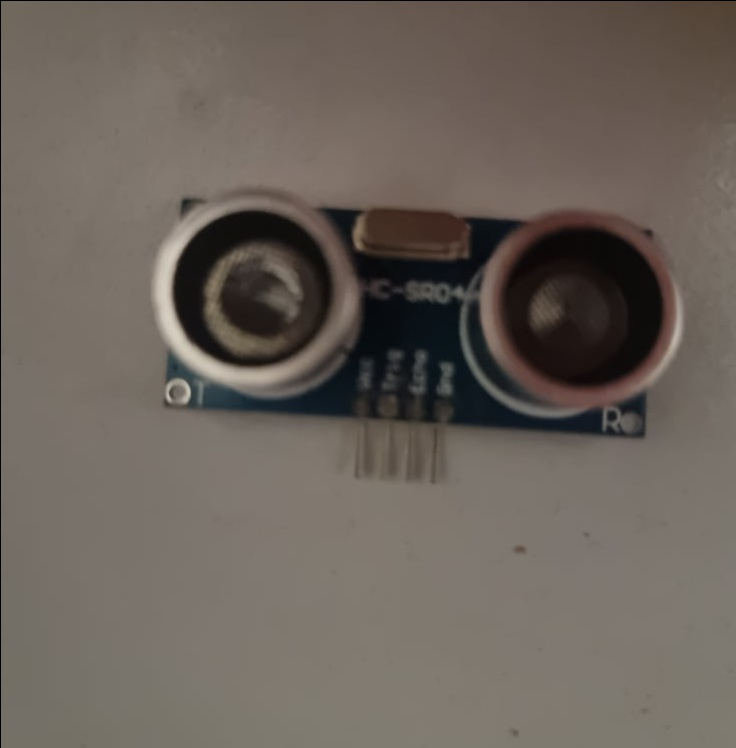SENSOR: (146, 180, 687, 442)
